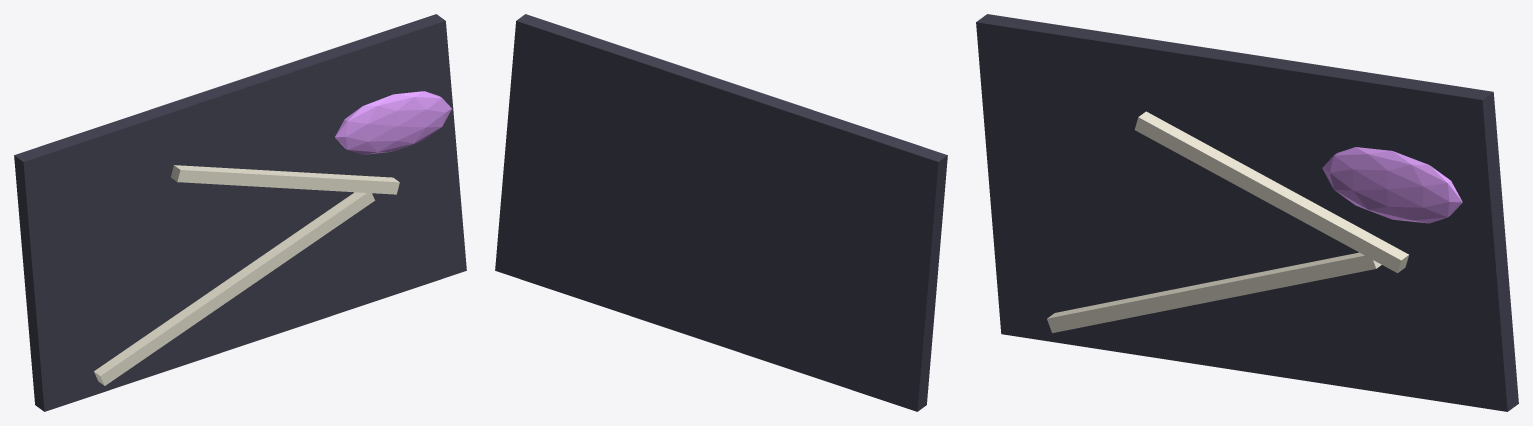
File: 03_weathering_wear_overlay_3.glb
3 views of the same model, side by side, from view 1: azimuth 30°, elevation 25°; view 2: azimuth 150°, elevation 25°; view 3: azimuth 330°, elevation 25° (orthographic). The views are drawn at different scales.
Visible parts, largest first — view 1: wear_plate, scratch_a, rust_or_moss_spot, scratch_b; view 2: wear_plate; view 3: wear_plate, rust_or_moss_spot, scratch_b, scratch_a.
Boxes of the visible parts, box(x1,y1,x2,y2) form: wear_plate: box(14, 14, 466, 411); scratch_a: box(94, 192, 374, 385); rust_or_moss_spot: box(335, 91, 451, 154); scratch_b: box(171, 165, 399, 194); wear_plate: box(495, 14, 947, 411); wear_plate: box(976, 14, 1518, 411); rust_or_moss_spot: box(1322, 147, 1462, 223); scratch_b: box(1134, 111, 1408, 273); scratch_a: box(1047, 252, 1381, 333).
Bounding box in the file's own units: 1.36 × 0.859 × 0.134.
